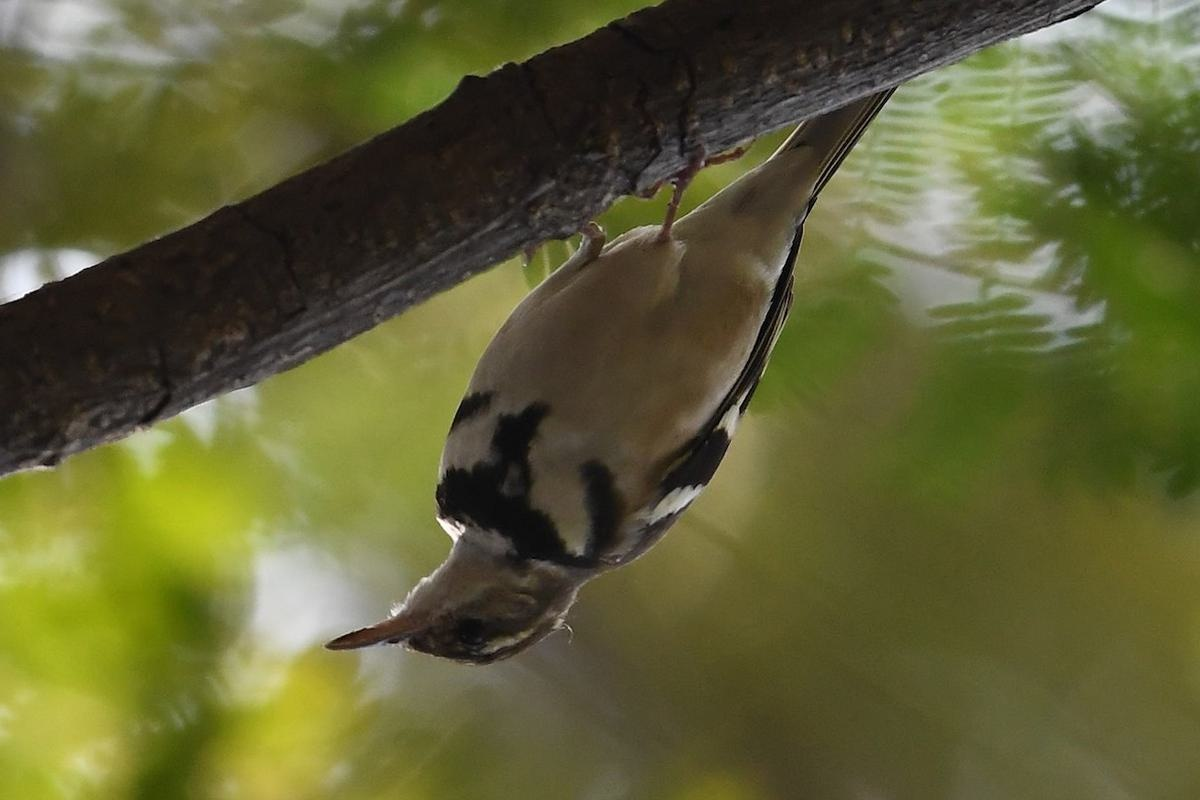wagtail: (328, 96, 929, 675)
